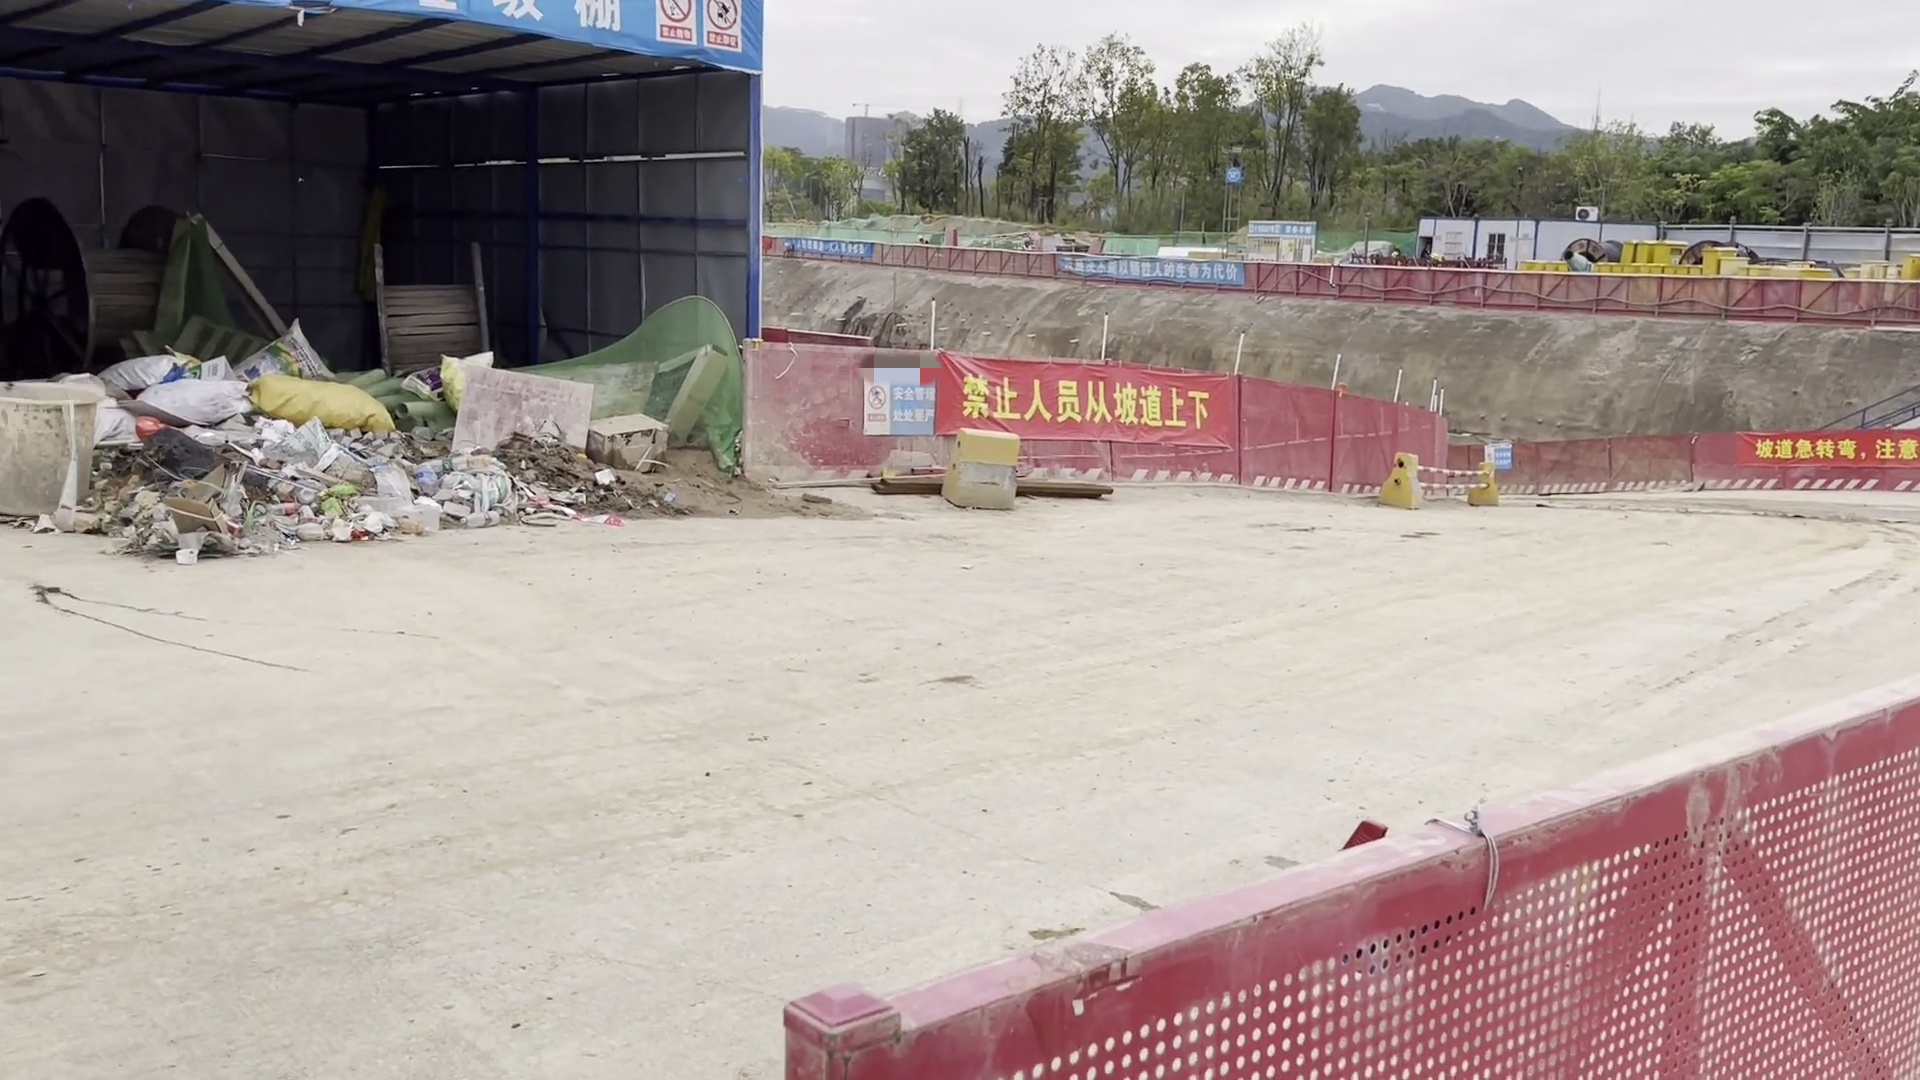fence: (767, 227, 1920, 328), (742, 345, 1458, 502), (1476, 425, 1920, 506)
slogan: (930, 367, 1221, 438), (1737, 425, 1920, 458), (1054, 257, 1244, 284), (775, 240, 873, 262)
